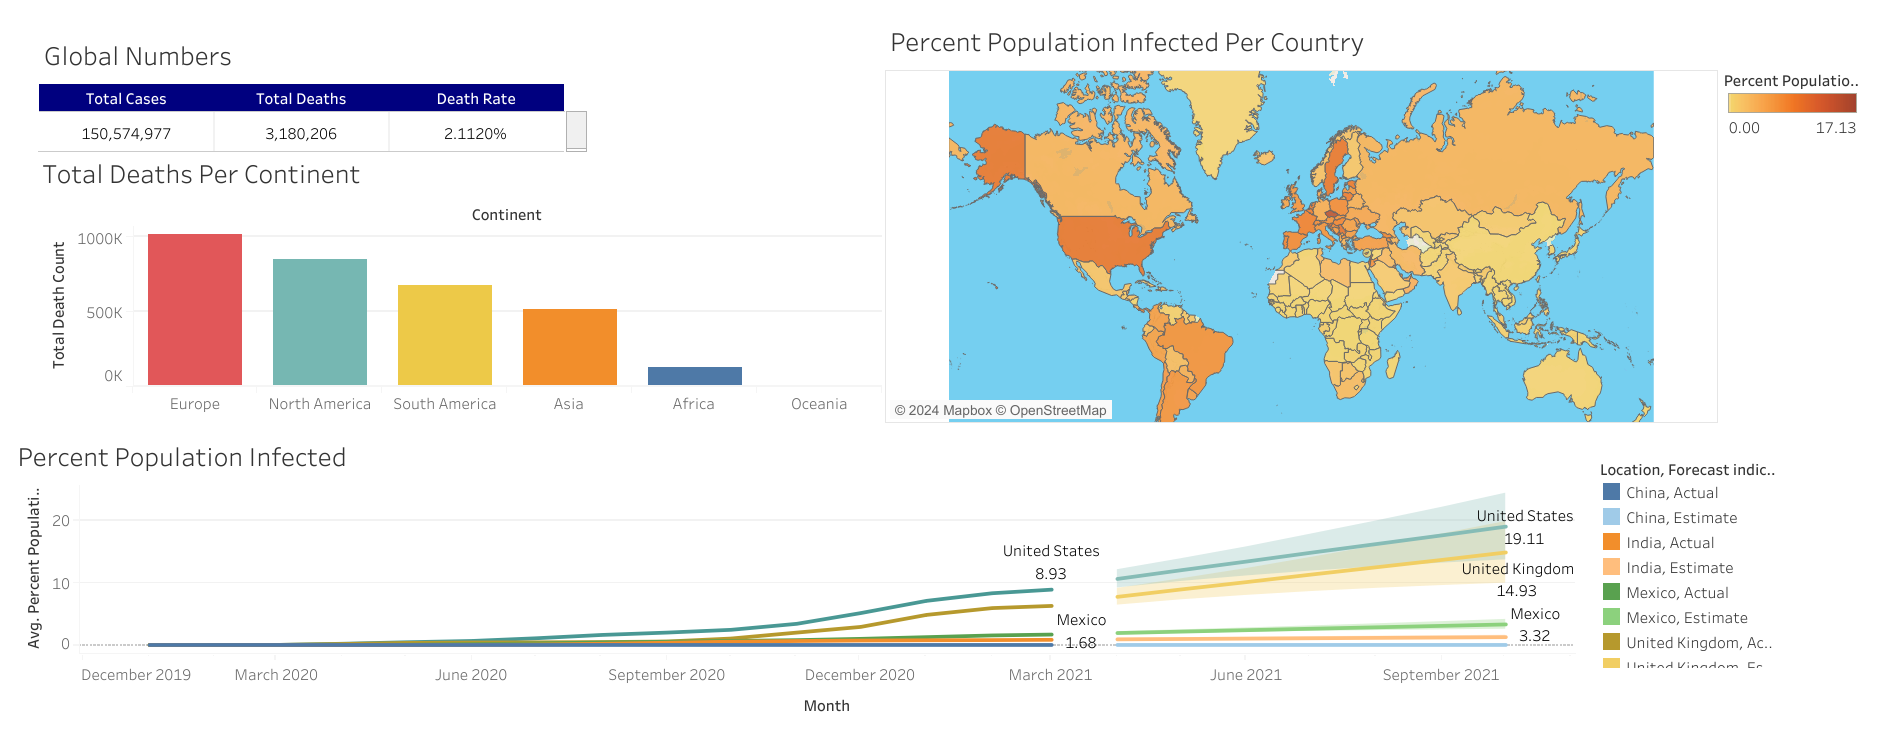

The dashboard page shown, as its layout file describes it:
{"tool":"tableau","page":{"name":"Dashboard 1","canvas":[1000,1000],"units":"permille","ordinal":0},"visuals":[{"type":"worksheet","title":"Hoja 5","mark":"Automatic","box":[470.2,22.2,443.7,549.9]},{"type":"worksheet","title":"Hoja 3","mark":"Automatic","box":[20.9,40.7,370.9,165.2]},{"type":"legend","title":"Hoja 5","param":"[federated.04reir40v8lmck15r55oz0gnq1eg].[sum:PopulationInfected:qk]","box":[916.5,86.3,73.4,94.9]},{"type":"worksheet","title":"Hoja 4","mark":"Automatic","rows":["TotalDeathCount"],"cols":["location"],"box":[19.6,199.8,448.7,358.8]},{"type":"worksheet","title":"Hoja 6","mark":"Automatic","rows":["PopulationInfected"],"cols":["date"],"box":[6.3,582,831,398.3]},{"type":"legend","title":"Hoja 6","param":"[federated.0lw24k60nz3koh1g45hgg185pdmj].[none:Location:nk]\n[federated.0lw24k60n","box":[850,615.3,94.9,286.1]}]}

Visuals, with their boxes on the dashboard's canvas, which has no fixed pixel size, in thousandths of its width and height (x1, y1, x2, y2). These are canvas units, not pixel positions in the 1880x739 screenshot, which may show the page scaled, cropped or inside an application window:
"Hoja 5" worksheet: BBox(470, 22, 914, 572)
"Hoja 3" worksheet: BBox(21, 41, 392, 206)
"Hoja 5" legend: BBox(916, 86, 990, 181)
"Hoja 4" worksheet: BBox(20, 200, 468, 559)
"Hoja 6" worksheet: BBox(6, 582, 837, 980)
"Hoja 6" legend: BBox(850, 615, 945, 901)
